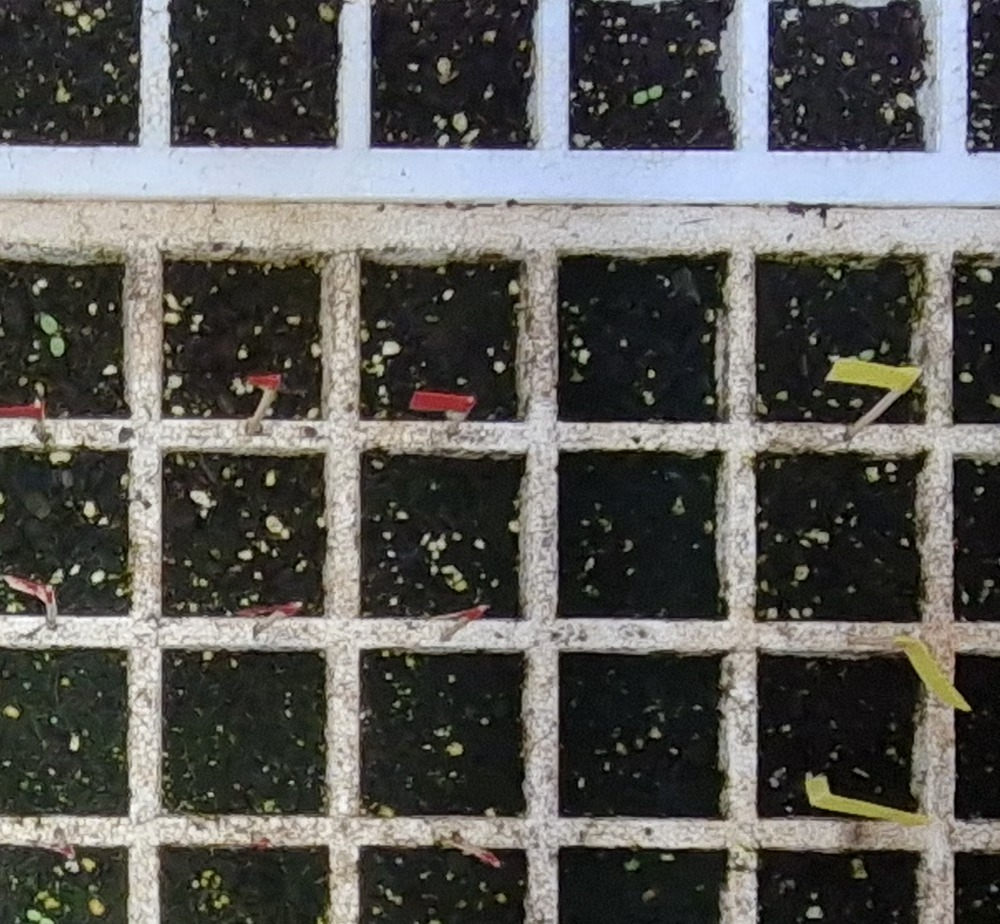Folha: (40, 315, 58, 333), (50, 337, 65, 357), (28, 909, 42, 920)
Germinacao: (40, 314, 65, 356), (27, 909, 55, 924)
